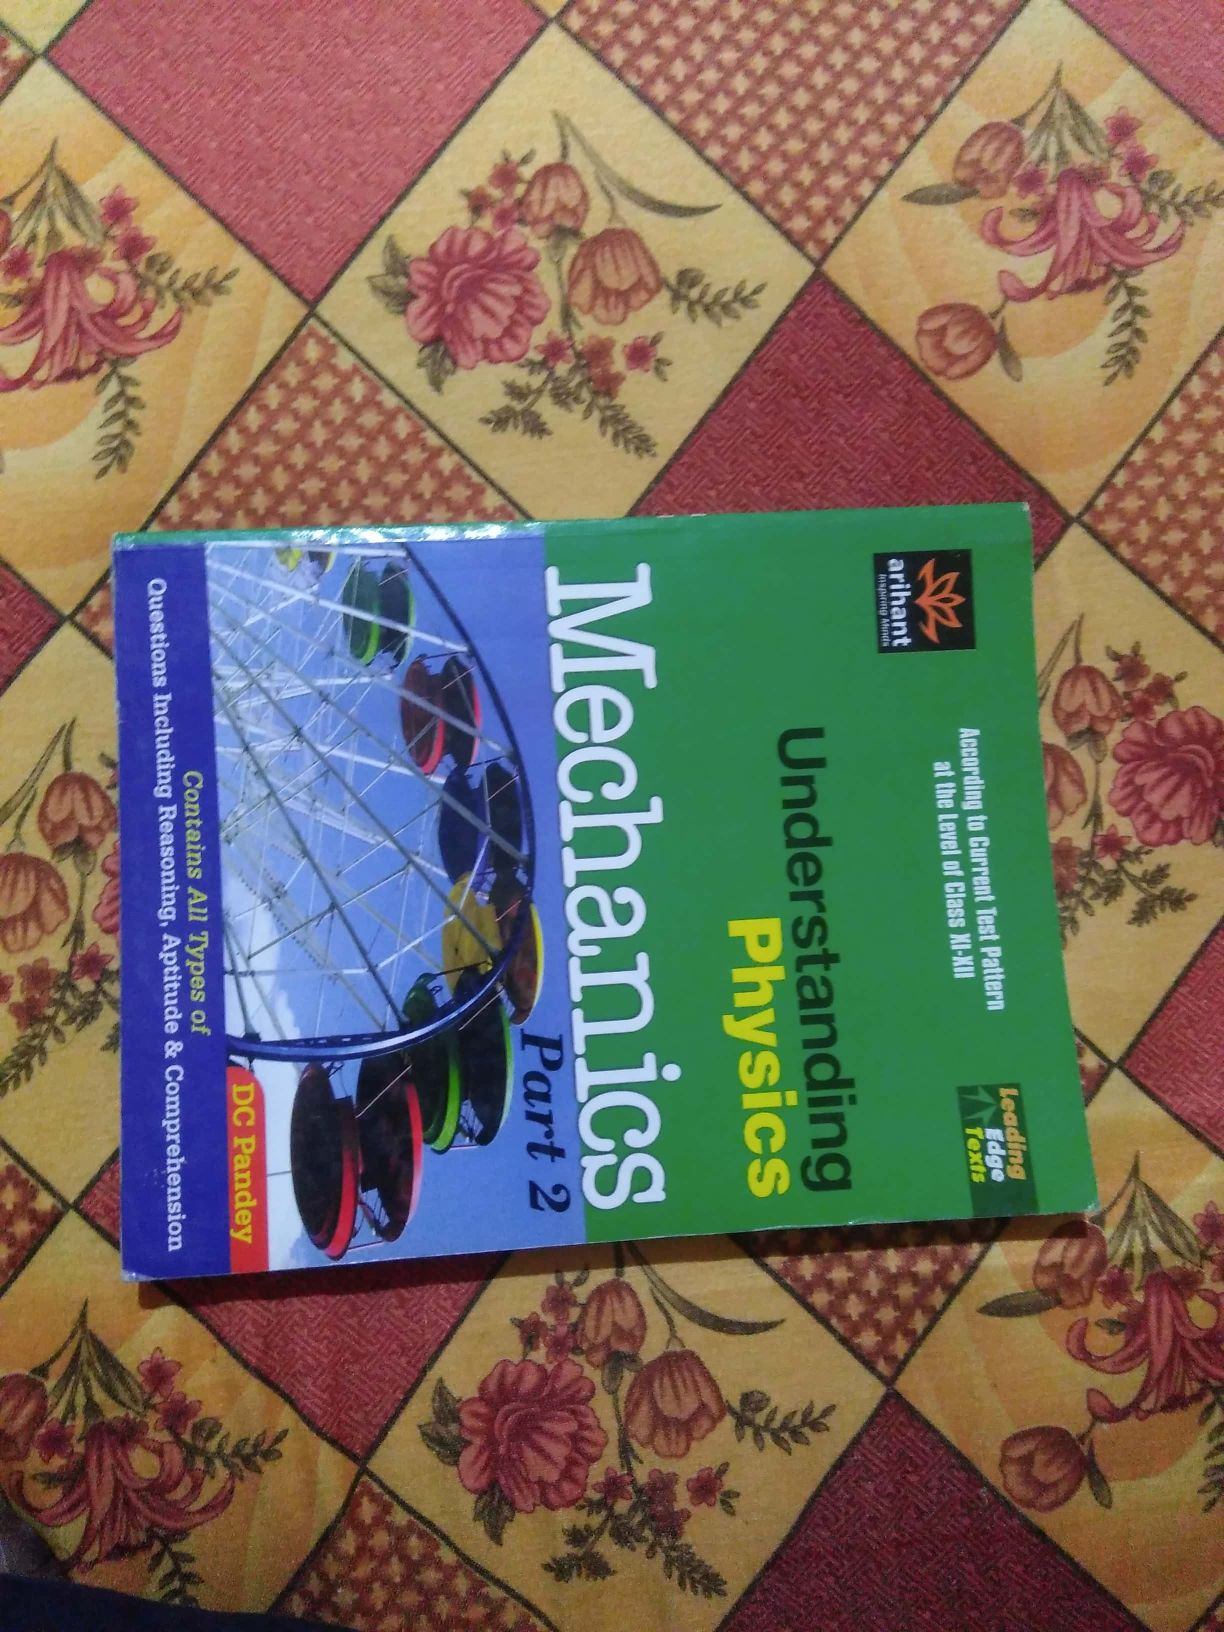mechanics: (80, 499, 1158, 1298)
